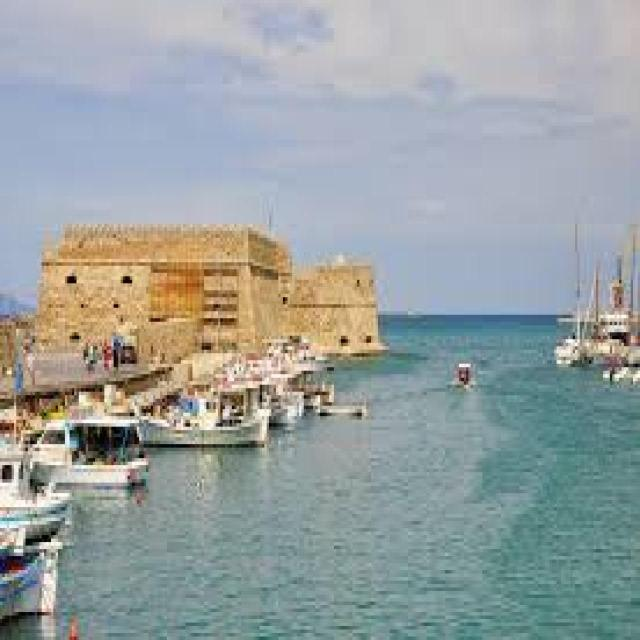Kules: (40, 223, 395, 366)
